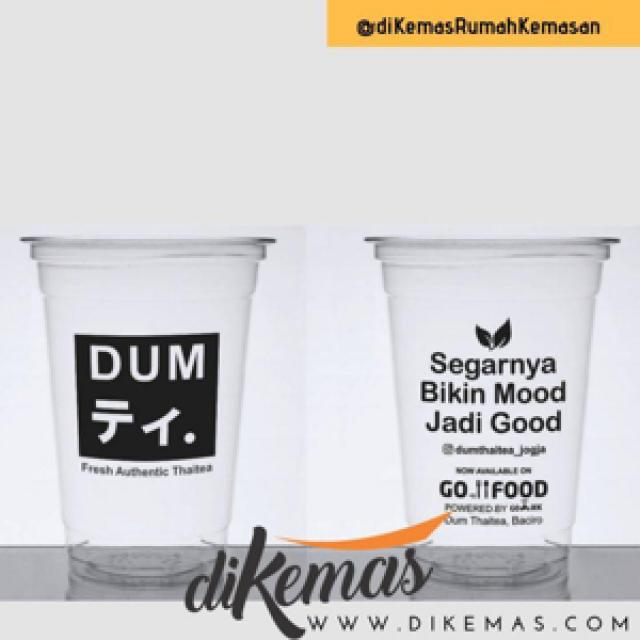plastic cup: (356, 224, 625, 608), (15, 226, 288, 602)
